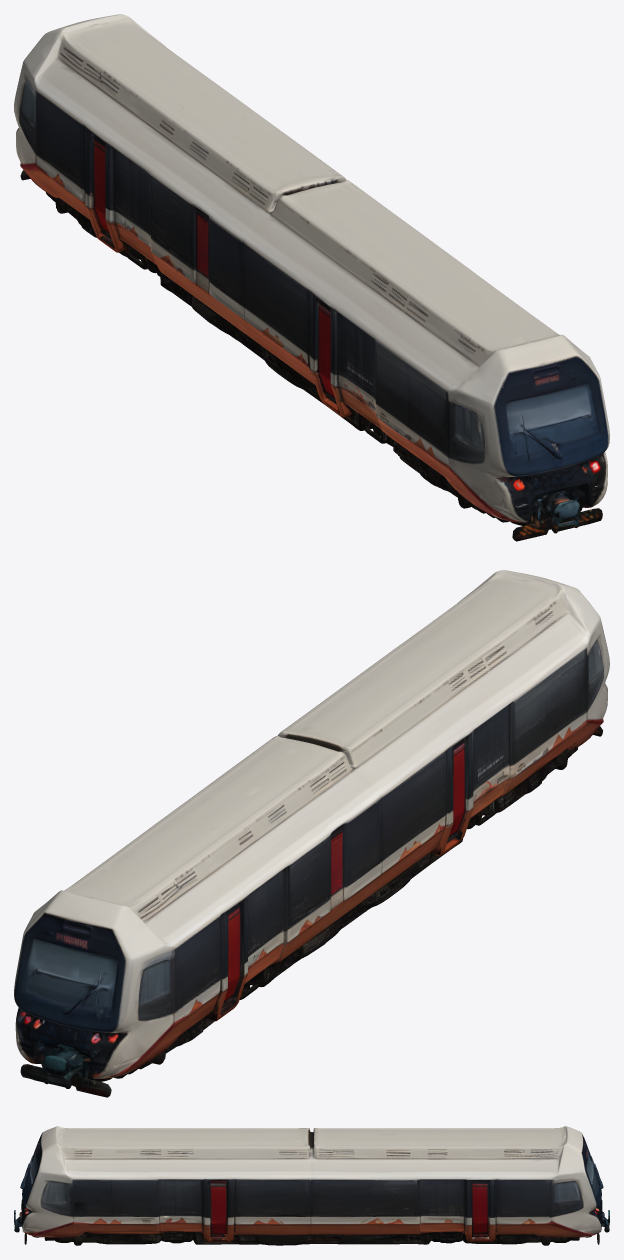
The picture shows the model from 3 angles, top to bottom: view 1: azimuth 30°, elevation 25°; view 2: azimuth 150°, elevation 25°; view 3: azimuth 270°, elevation 25°; orthographic projection. The views are drawn at different scales.
Visible parts, largest first — view 1: node_0; view 2: node_0; view 3: node_0.
Boxes of the visible parts, left/top/right/bottom form: node_0: left=14, top=14, right=609, bottom=541; node_0: left=14, top=570, right=609, bottom=1097; node_0: left=14, top=1126, right=609, bottom=1245.
Bounding box in the file's own units: 0.187 × 0.2162 × 1.19.
Materials: 1 (1 with a texture image).
